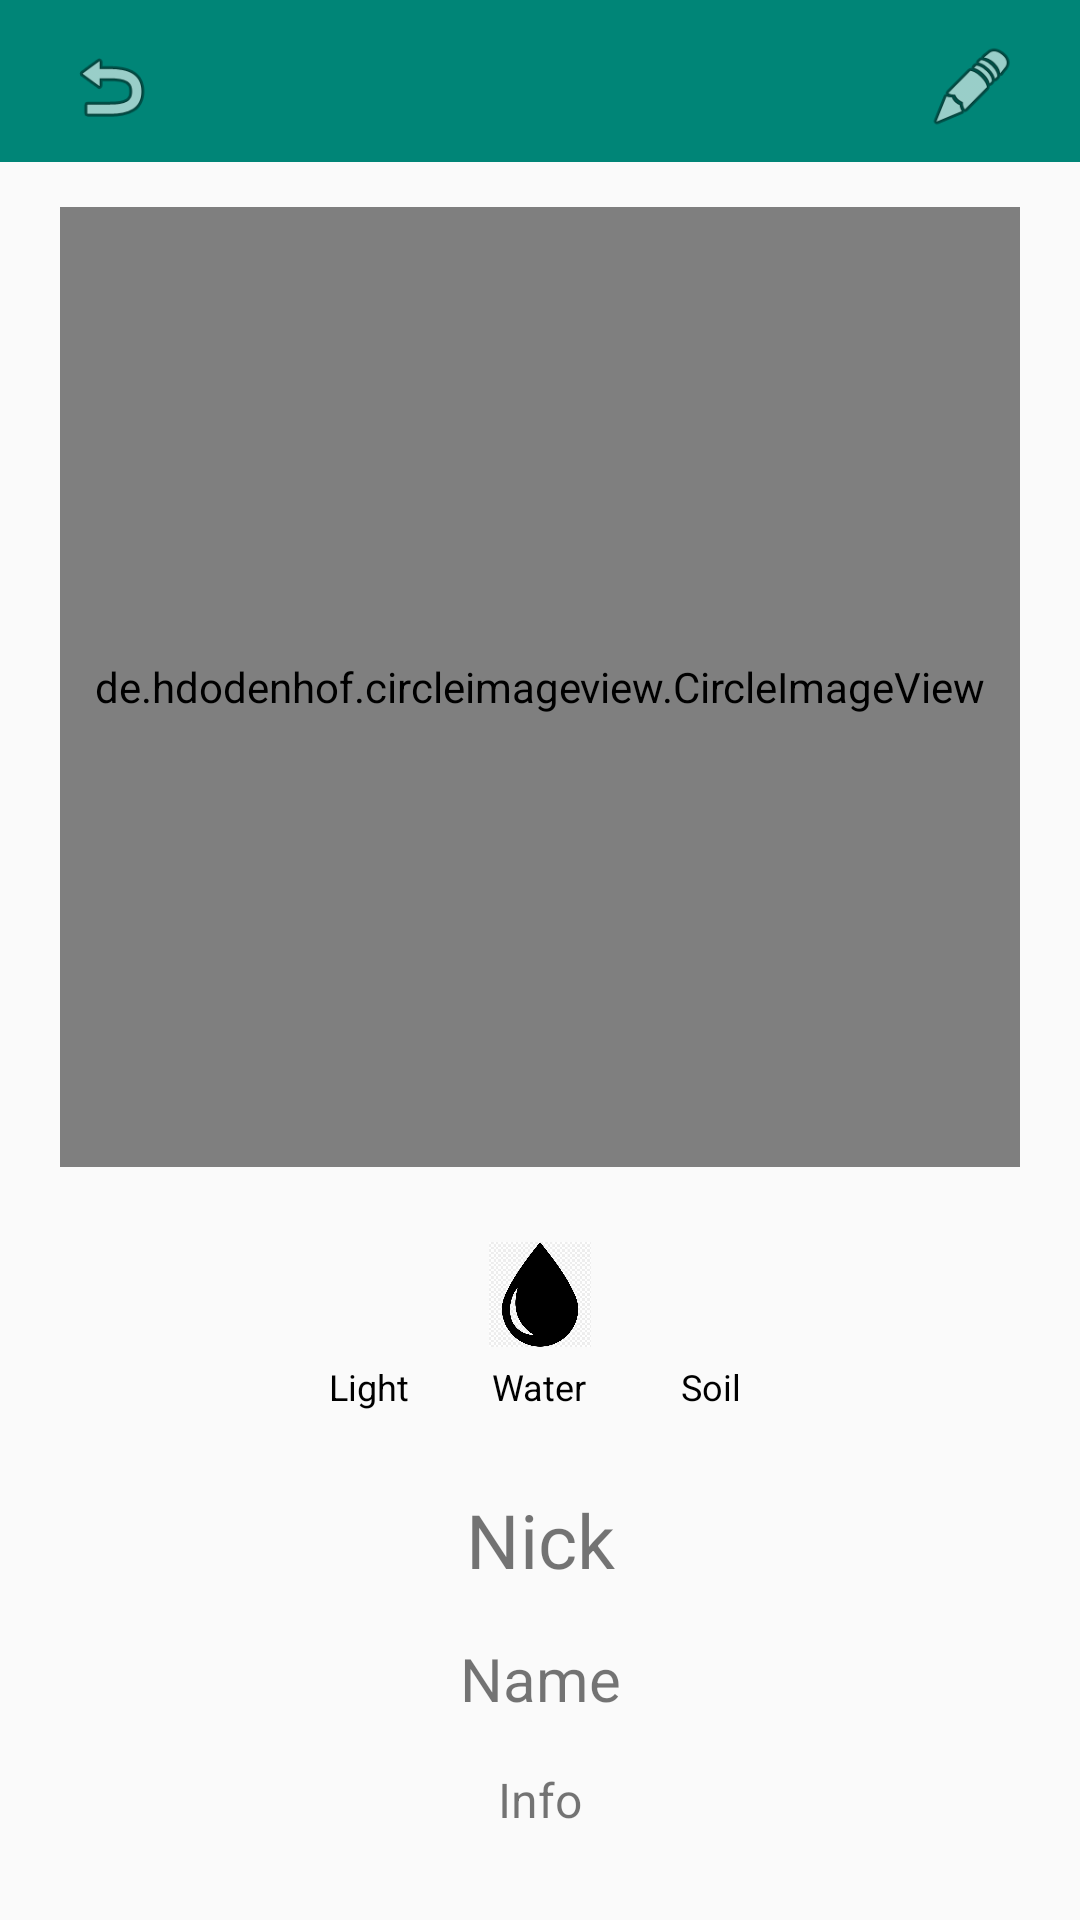

Point at icon controls on the screen. Image size 1080×1920, points as point (x, y).
edit: point (972, 86)
revert: point (112, 88)
